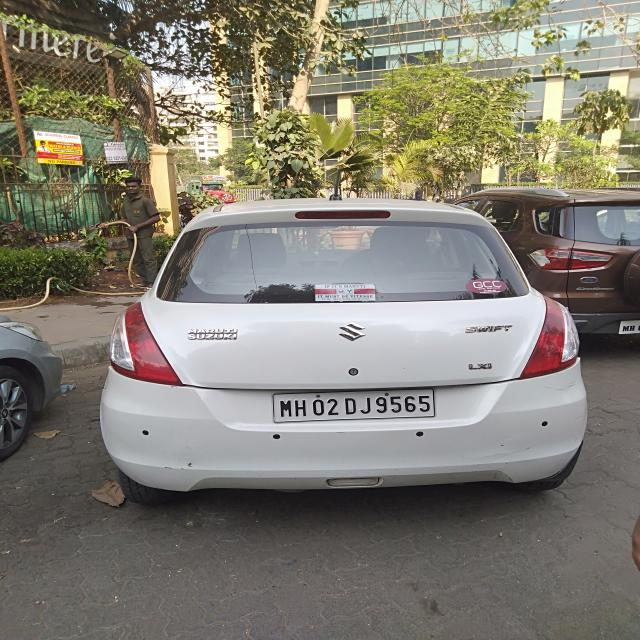Number-Plate: (272, 390, 438, 419)
